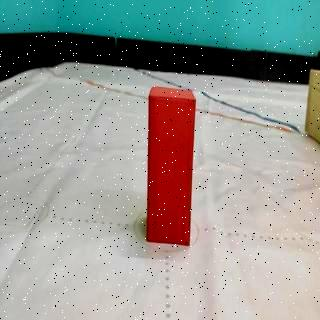redbox: (146, 85, 196, 244)
